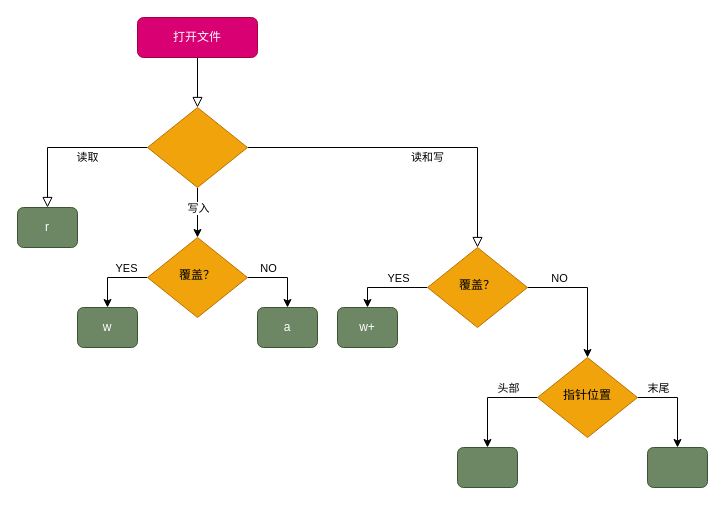
The diagram is 725 pixels wide and 505 high, and some of its shapes have lost their labels. The box of each missing label's shape, as (x1, y1, x2, y2) in pixels:
a+: (646, 446, 708, 488)
r+: (456, 446, 518, 488)
做什么？: (146, 106, 248, 188)
